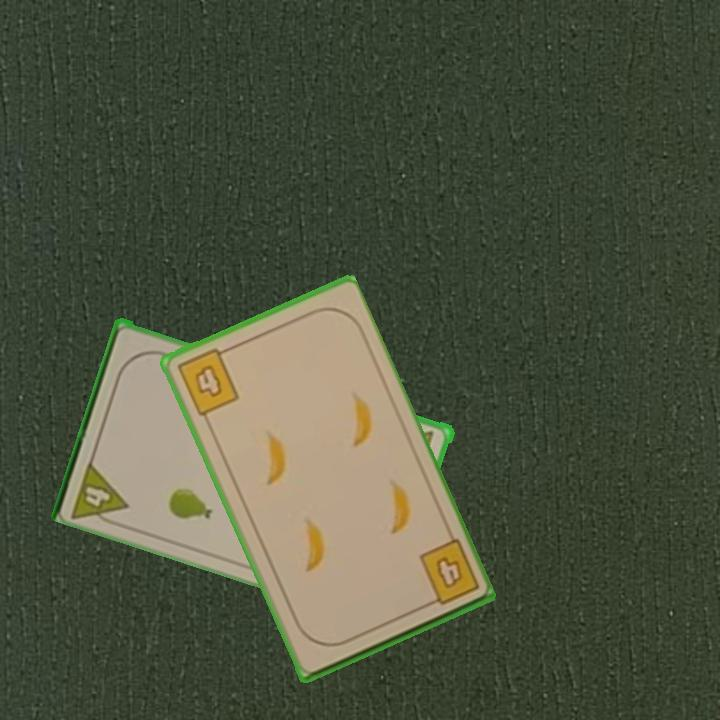4b: (173, 343, 242, 419), (415, 536, 482, 610)
4p: (67, 455, 133, 531)
